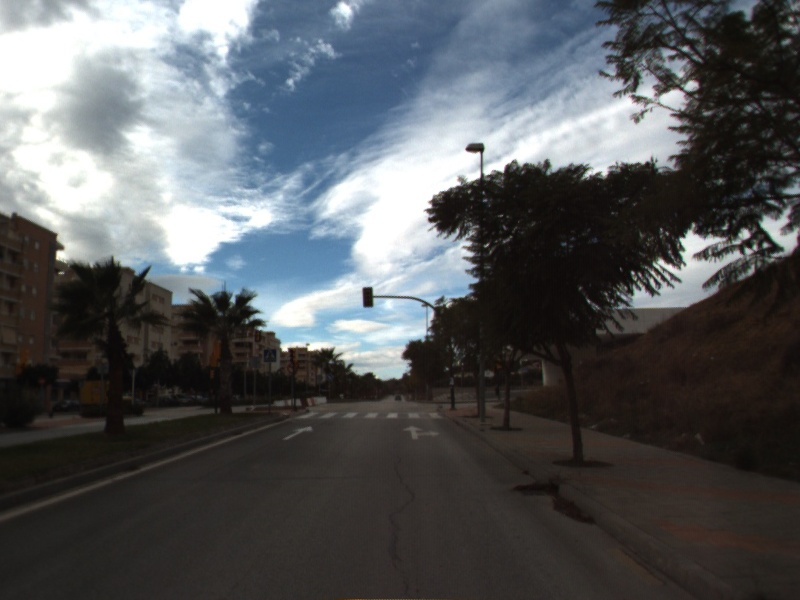STRAIGHT: (280, 424, 315, 442)
STRAIGHT_RIGHT: (401, 423, 442, 442)
